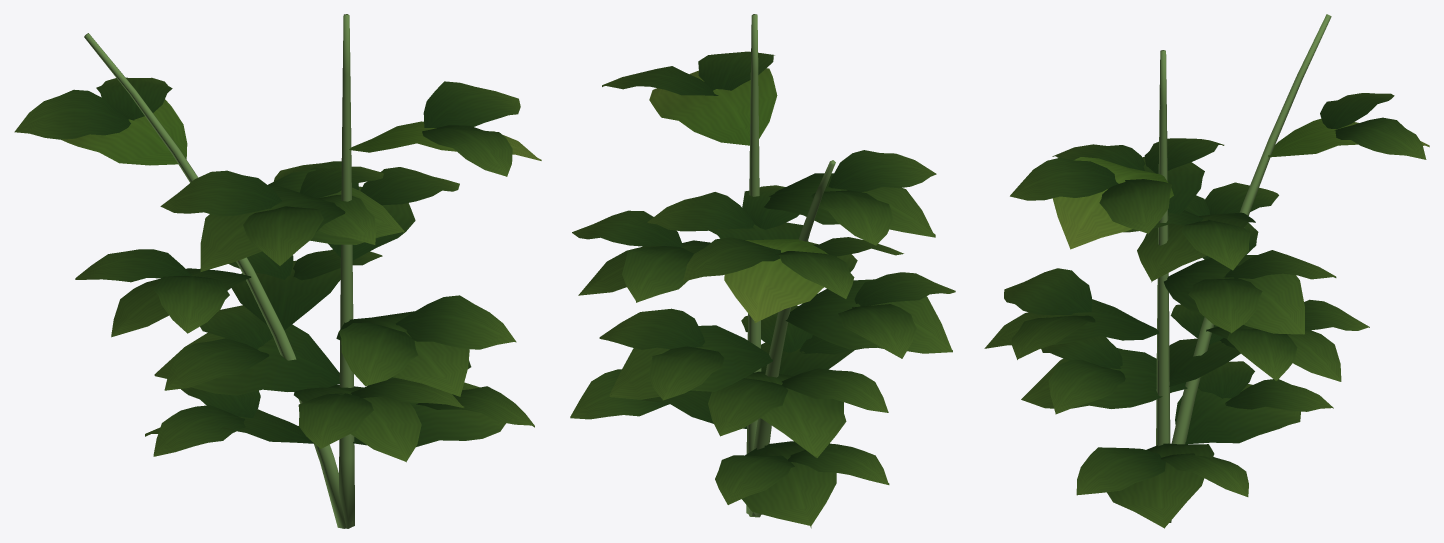
The model's file is dahlia-05-lod.glb.
3 renders of one model, left to right at view 1: azimuth 30°, elevation 25°; view 2: azimuth 150°, elevation 25°; view 3: azimuth 270°, elevation 25°, orthographic. The views are drawn at different scales.
Visible parts, largest first — view 1: dahlia_stage_05_leaf_veins.009, dahlia_stage_05_stem_fibres.009, dahlia_stage_05_young_leaf.009; view 2: dahlia_stage_05_leaf_veins.009, dahlia_stage_05_young_leaf.009, dahlia_stage_05_stem_fibres.009; view 3: dahlia_stage_05_leaf_veins.009, dahlia_stage_05_stem_fibres.009, dahlia_stage_05_young_leaf.009.
Part boxes in pixels (box(x1,y1,x2,y2)): dahlia_stage_05_leaf_veins.009: box(14, 77, 534, 462); dahlia_stage_05_stem_fibres.009: box(84, 14, 354, 528); dahlia_stage_05_young_leaf.009: box(61, 99, 541, 165); dahlia_stage_05_leaf_veins.009: box(570, 51, 955, 528); dahlia_stage_05_young_leaf.009: box(649, 68, 828, 322); dahlia_stage_05_stem_fibres.009: box(746, 14, 835, 517); dahlia_stage_05_leaf_veins.009: box(984, 93, 1426, 528); dahlia_stage_05_stem_fibres.009: box(1156, 14, 1331, 522); dahlia_stage_05_young_leaf.009: box(1052, 118, 1429, 249).
Bounding box in the file's own units: 0.2021 × 0.2547 × 0.218.
3 materials, 2 textured.
